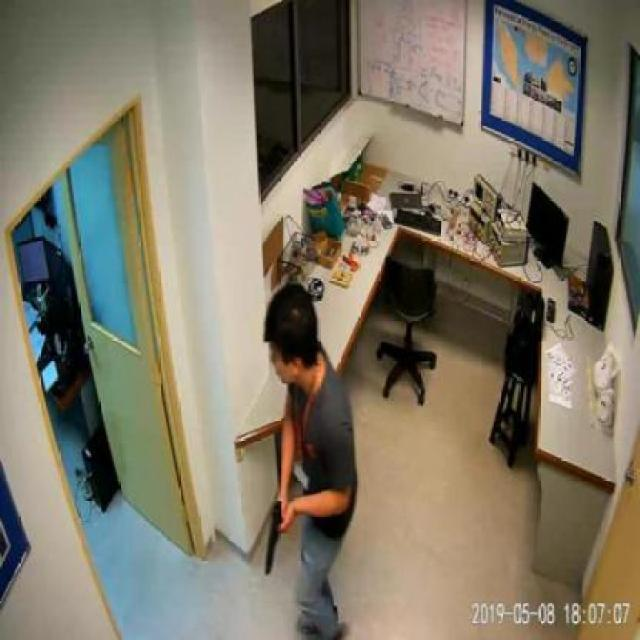gun: (263, 494, 286, 574)
